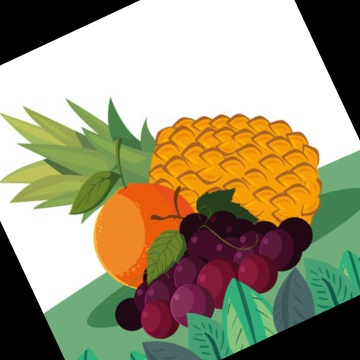Pineapple: (1, 96, 322, 230)
